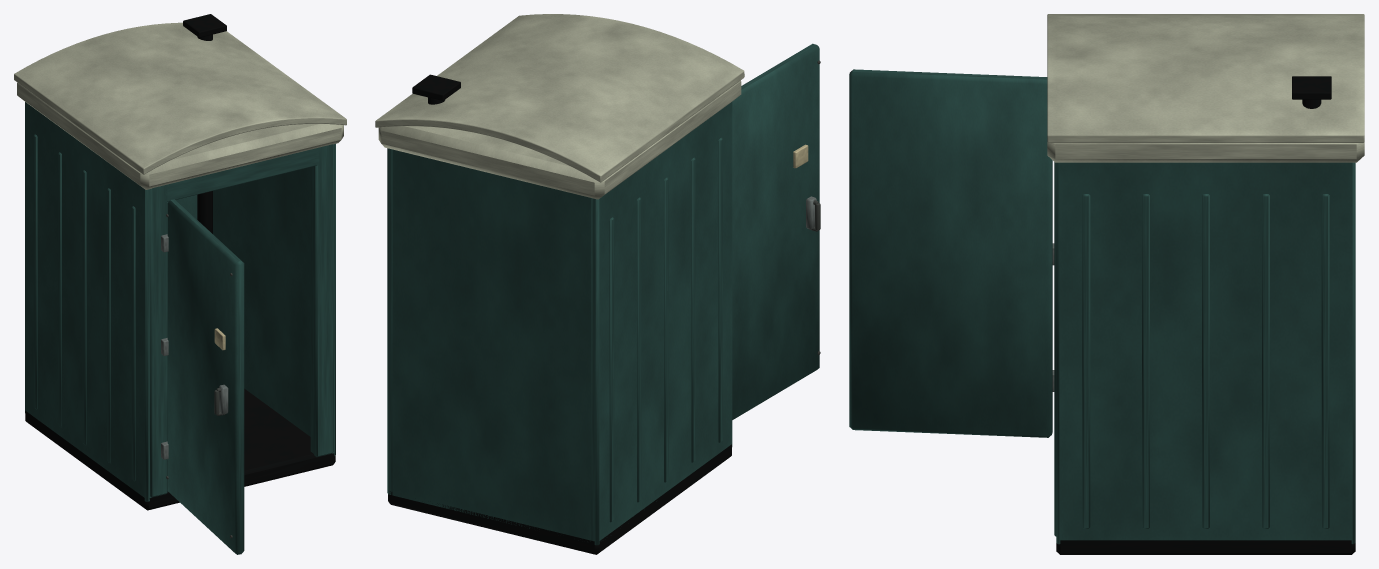
Rendered from level_camp_portable_toilet_open_refined.glb.
3 views of the same model, side by side, from view 1: azimuth 30°, elevation 25°; view 2: azimuth 150°, elevation 25°; view 3: azimuth 270°, elevation 25° (orthographic). The views are drawn at different scales.
Visible parts, largest first — view 1: level_camp_portable_toilet_open_refined; view 2: level_camp_portable_toilet_open_refined; view 3: level_camp_portable_toilet_open_refined.
Part boxes in pixels (x1,y1,x2,y2): level_camp_portable_toilet_open_refined: [14, 14, 346, 554]; level_camp_portable_toilet_open_refined: [375, 14, 820, 554]; level_camp_portable_toilet_open_refined: [849, 14, 1364, 554].
Size of the model in its own units: 1.44 by 2.52 by 2.58.
Materials: 7 (7 with a texture image).
